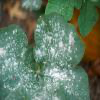Squash Powdery mildew leaf: (0, 11, 90, 99)
